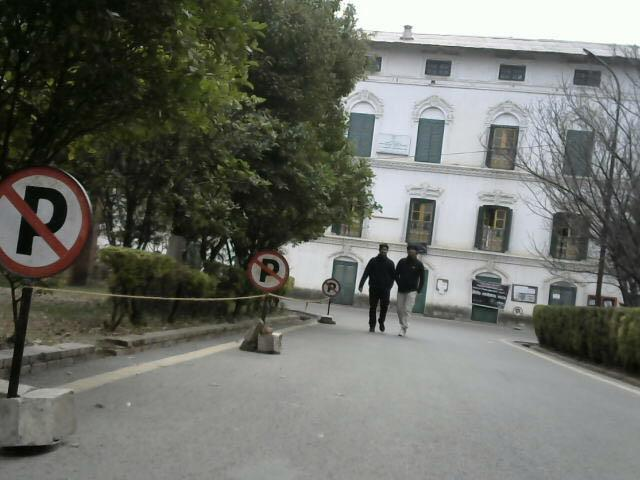Building: (360, 25, 640, 288)
Person: (389, 237, 436, 346), (363, 235, 393, 346)
Road: (49, 306, 640, 480)
Traffic sign: (0, 161, 85, 396), (250, 249, 287, 361), (317, 274, 339, 331), (510, 301, 524, 349)
Tree: (0, 3, 374, 245)
